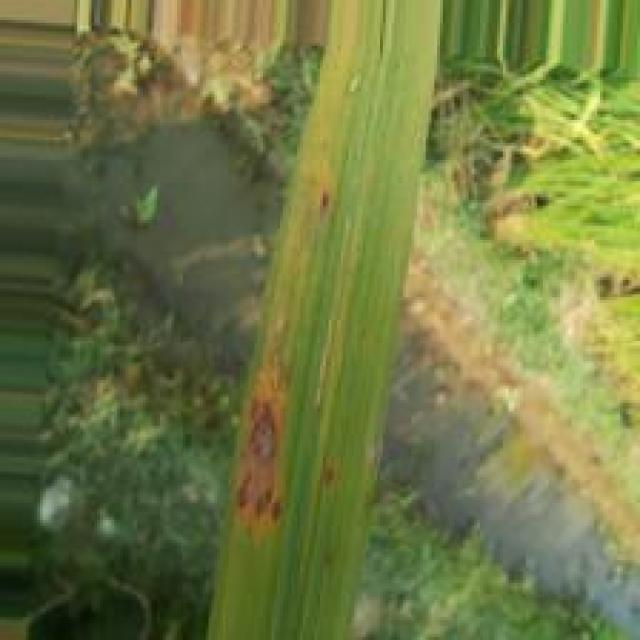Leaf_Blast: (235, 156, 354, 560)
